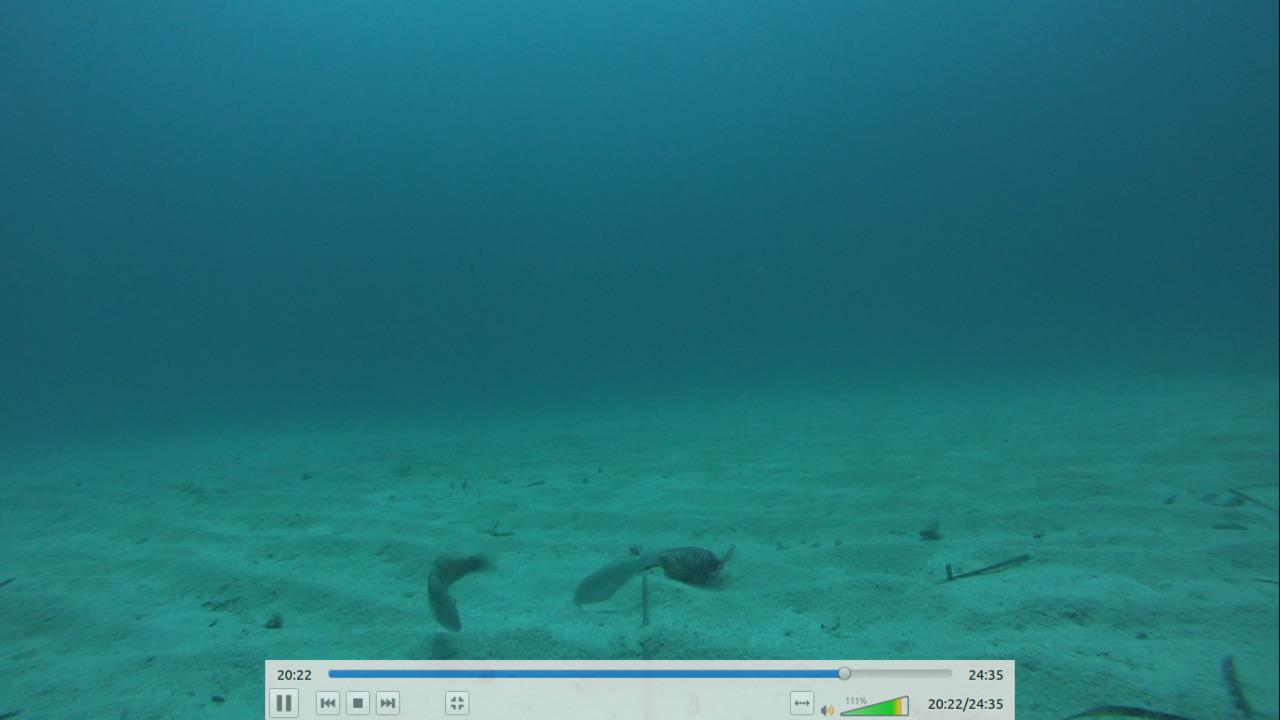raor: (421, 546, 490, 638), (569, 553, 672, 607)
